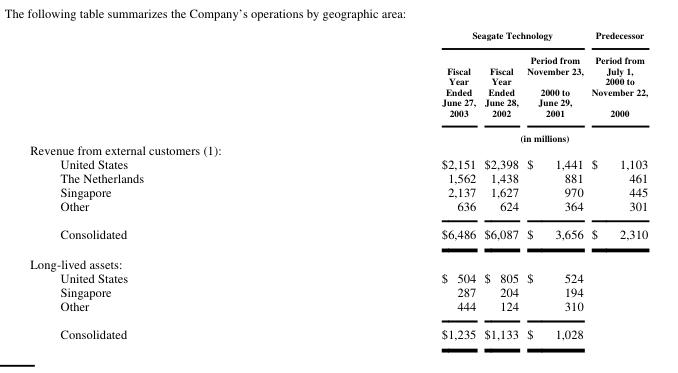table: (29, 28, 647, 341)
table column: (29, 28, 292, 341), (292, 28, 479, 341), (522, 28, 586, 341), (586, 28, 647, 341), (479, 28, 522, 341)
table column header: (29, 28, 647, 142)
table projected row header: (29, 248, 647, 270), (29, 142, 647, 156)
table row: (29, 47, 647, 125), (29, 219, 647, 248), (29, 248, 647, 270), (29, 319, 647, 341), (29, 198, 647, 219), (29, 298, 647, 319), (29, 28, 647, 47), (29, 125, 647, 142), (29, 142, 647, 156), (29, 156, 647, 170), (29, 170, 647, 184), (29, 184, 647, 198), (29, 270, 647, 284), (29, 284, 647, 298)
table spanning cell: (292, 125, 647, 142), (586, 28, 647, 125), (292, 28, 586, 47)
